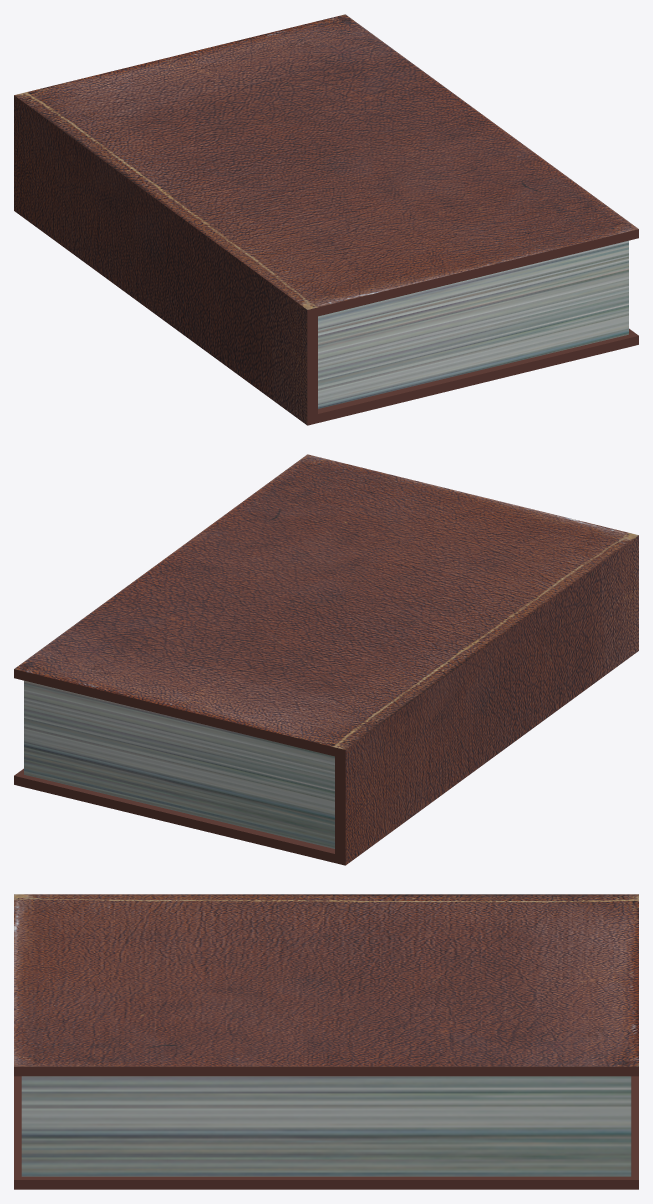
File: Book.FBX
The picture shows the model from 3 angles, top to bottom: view 1: azimuth 30°, elevation 25°; view 2: azimuth 150°, elevation 25°; view 3: azimuth 270°, elevation 25°; orthographic projection. The views are drawn at different scales.
Visible parts, largest first — view 1: Book; view 2: Book; view 3: Book.
Boxes of the visible parts, left/top/right/bottom form: Book: left=14, top=14, right=638, bottom=425; Book: left=14, top=454, right=638, bottom=865; Book: left=14, top=894, right=638, bottom=1189.
Size of the model in its own units: 15 by 5 by 23.
Materials: 1 (1 with a texture image).
